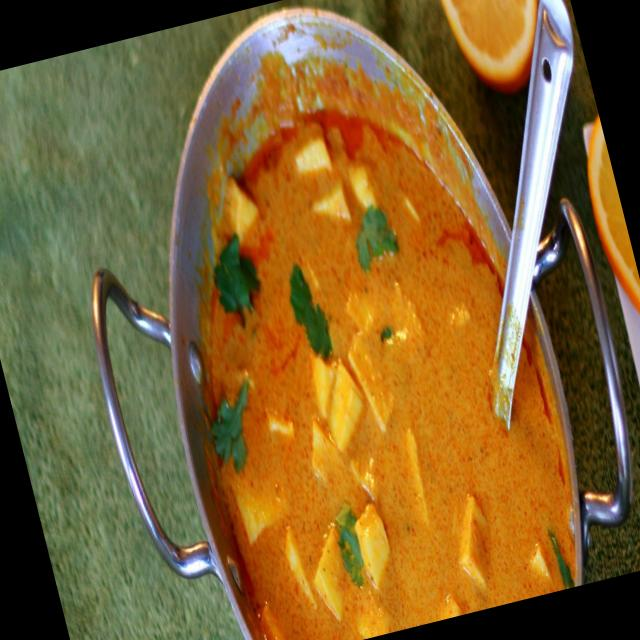ShahiPaneer: (135, 71, 596, 640)
